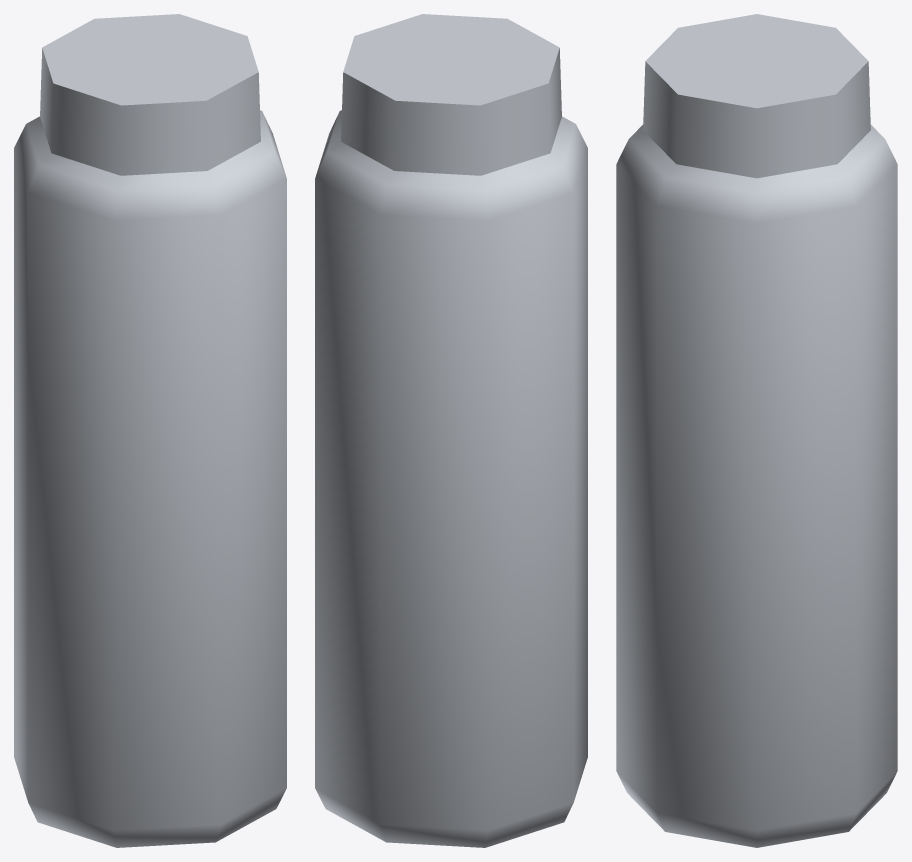
File: bottle_glassware_vial_medium.glb
3 renders of one model, left to right at view 1: azimuth 30°, elevation 25°; view 2: azimuth 150°, elevation 25°; view 3: azimuth 270°, elevation 25°, orthographic.
Parts seen in each view (by area): view 1: bottle_glassware_vial_medium, bottle_glassware_vial_medium_cap; view 2: bottle_glassware_vial_medium, bottle_glassware_vial_medium_cap; view 3: bottle_glassware_vial_medium, bottle_glassware_vial_medium_cap.
Boxes of the visible parts, bbox=[...] form: bottle_glassware_vial_medium: bbox=[14, 110, 286, 847]; bottle_glassware_vial_medium_cap: bbox=[40, 14, 260, 175]; bottle_glassware_vial_medium: bbox=[315, 110, 587, 847]; bottle_glassware_vial_medium_cap: bbox=[341, 14, 561, 175]; bottle_glassware_vial_medium: bbox=[616, 124, 897, 847]; bottle_glassware_vial_medium_cap: bbox=[643, 14, 870, 178].
Size of the model in its own units: 6.38 by 18.54 by 6.38.
2 materials, 2 textured.
